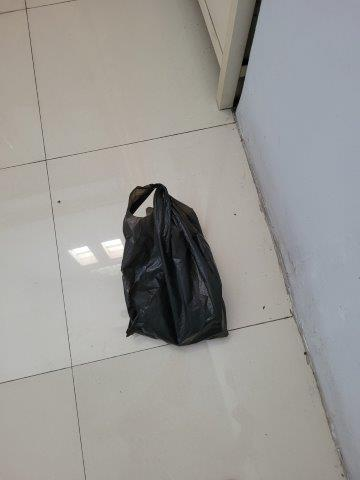plastik: (120, 183, 230, 345)
